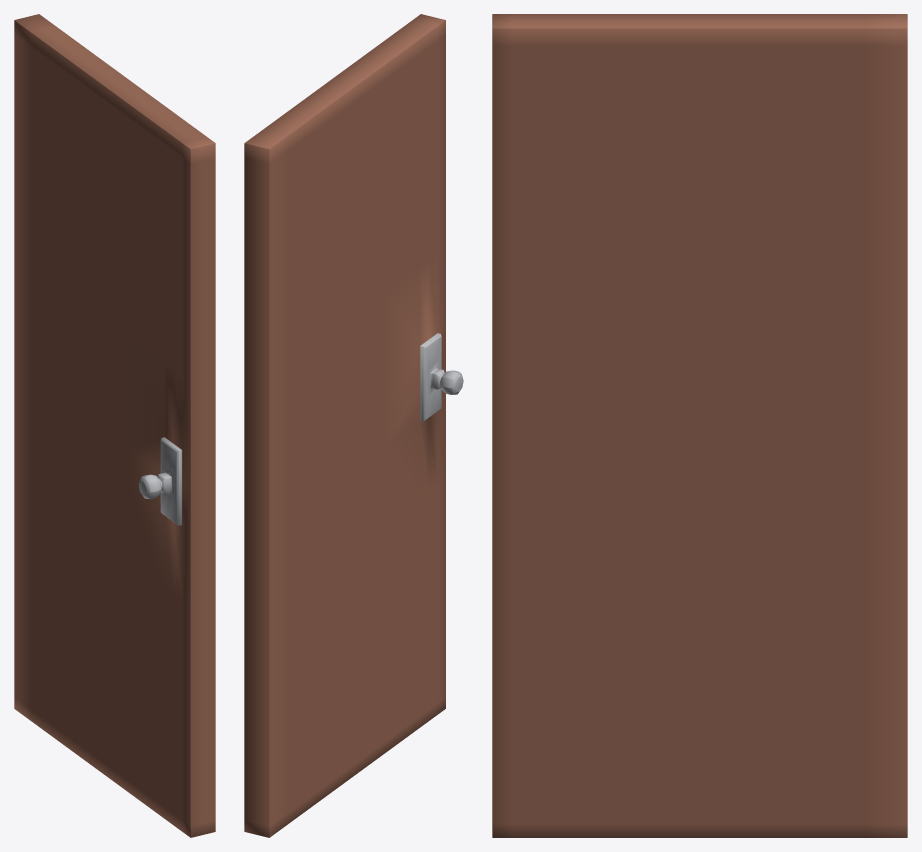
Rendered from Bathroom_door.fbx.
The picture shows the model from 3 angles, left to right: view 1: azimuth 30°, elevation 25°; view 2: azimuth 150°, elevation 25°; view 3: azimuth 270°, elevation 25°; orthographic projection. The views are drawn at different scales.
Visible parts, largest first — view 1: Bathroom_door; view 2: Bathroom_door; view 3: Bathroom_door.
Part boxes in pixels (left/top/right/bottom): Bathroom_door: left=14, top=14, right=215, bottom=837; Bathroom_door: left=244, top=14, right=463, bottom=837; Bathroom_door: left=492, top=14, right=907, bottom=837.
Size of the model in its own units: 32.79 by 386 by 180.
